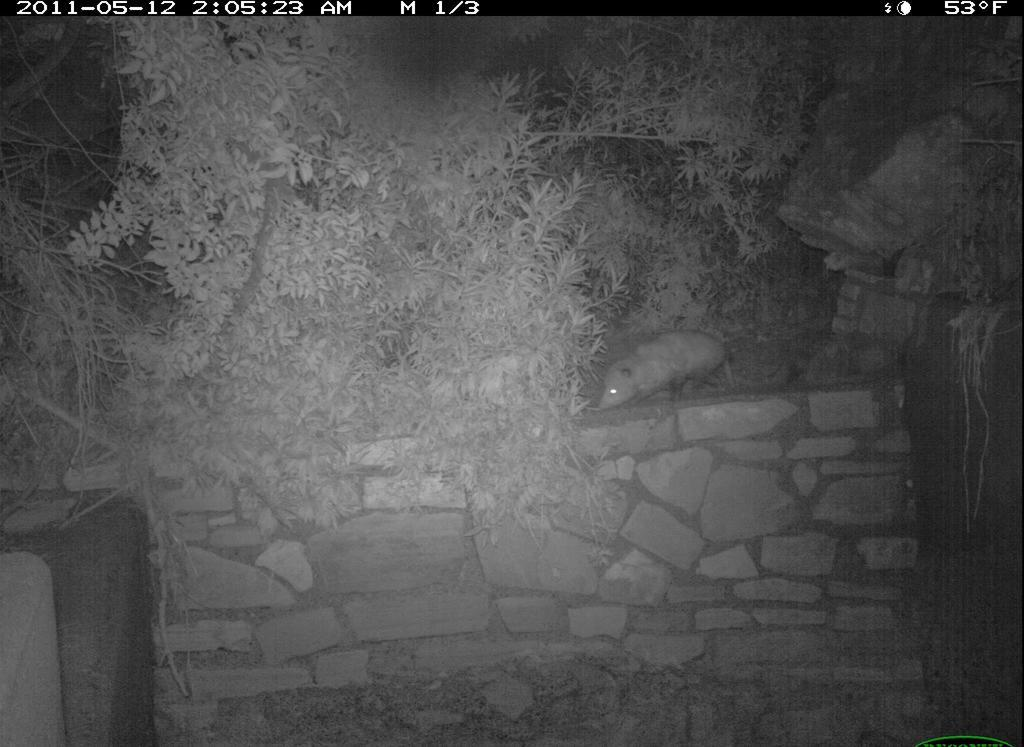opossum: (591, 317, 760, 426)
